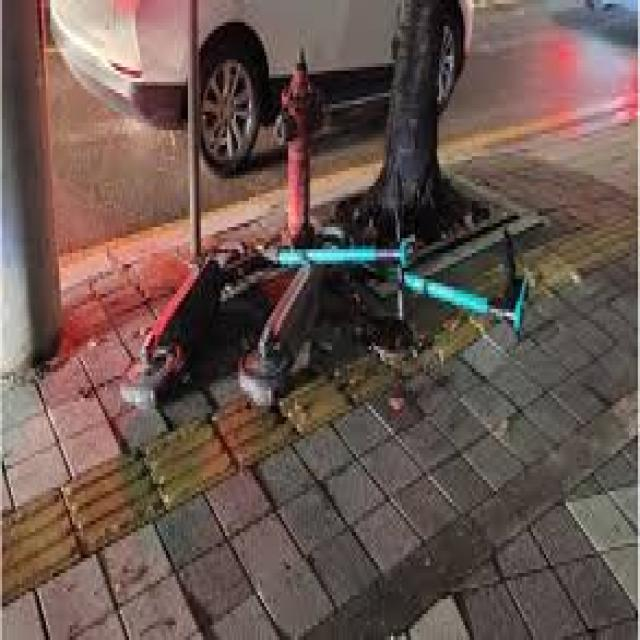curb: (56, 223, 194, 298), (203, 187, 289, 239), (309, 159, 386, 210)
kick-board: (106, 229, 530, 421)
lane: (2, 305, 513, 607), (519, 207, 639, 299)
sidewalk: (3, 244, 639, 640), (2, 255, 194, 508), (453, 114, 638, 222)
